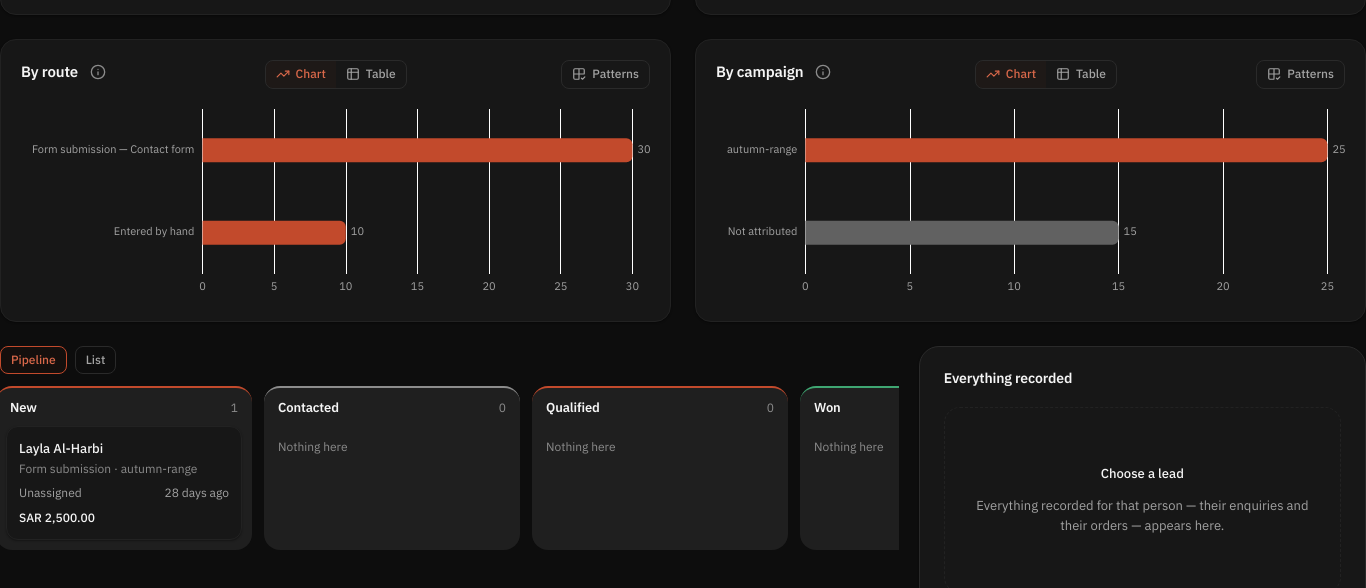
Scenario: the Lead Center › shows the leads and the counted taps without a ratio between them
This screenshot has width=1366, height=588.
(page scrolled)
Click the button "List".
click(96, 360)  # box [75,346,116,374]
(page scrolled)
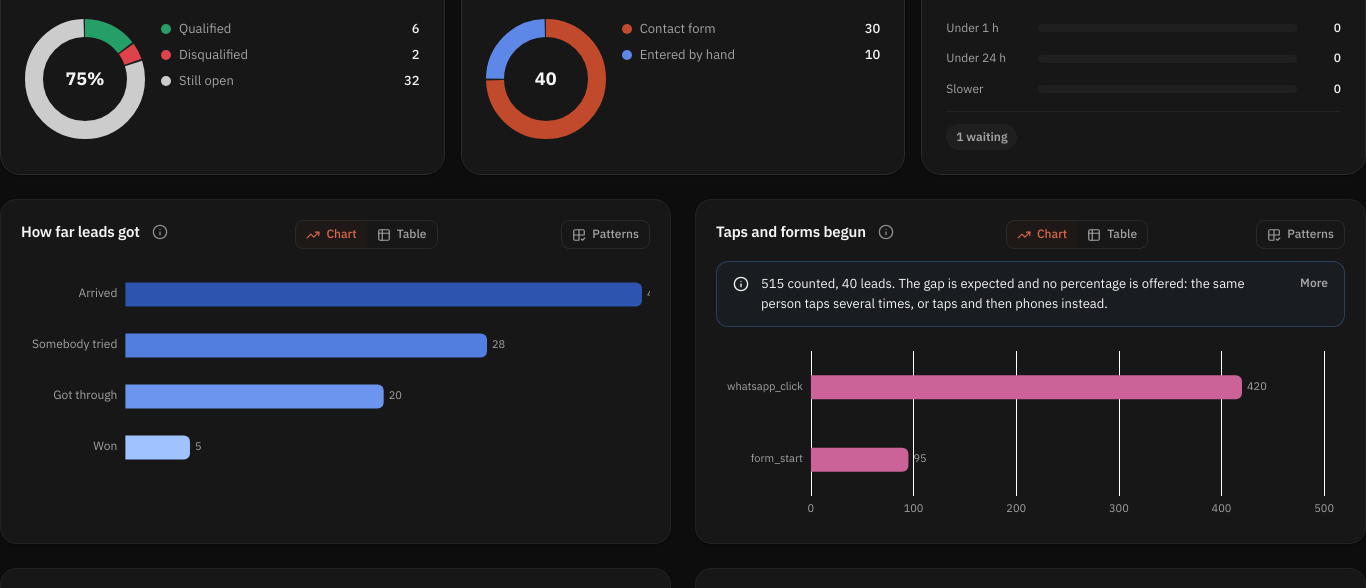
Expected: the message shows "515 counted, 40 leads", [761,274,1245,313]
Expected: the message shows "no percentage is offered", [761,274,1245,313]
Click the button "Table" in the row of "Taps and forms begun".
click(1112, 234)  # box [1077,221,1147,248]
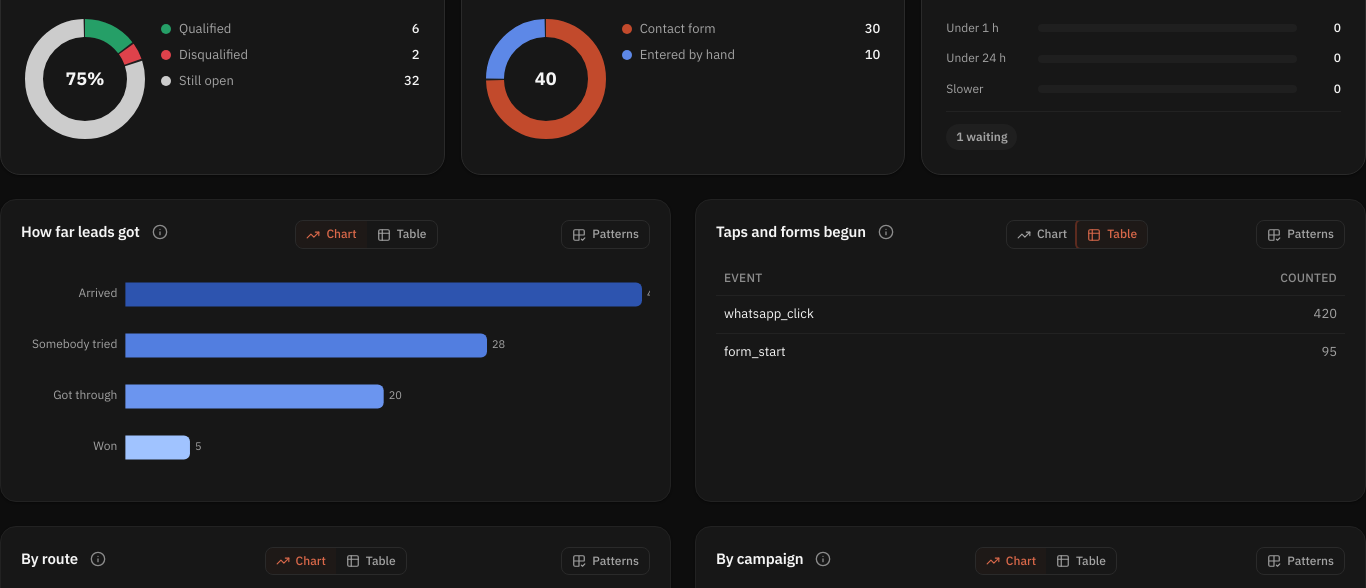
Expected: the text "420" is shown, [1089,296,1345,333]
